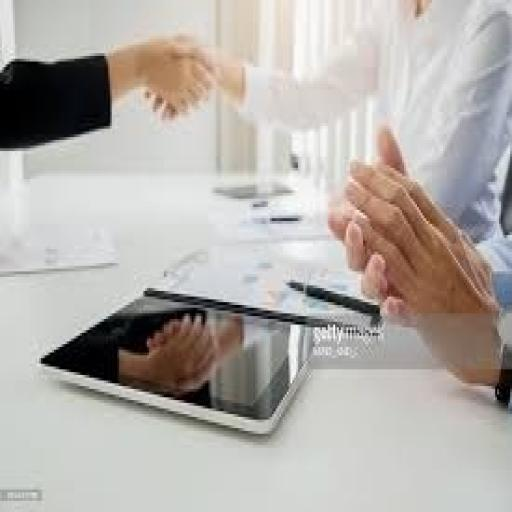clapping: (147, 0, 510, 325)
